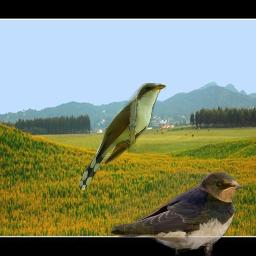Cuckoo: (79, 83, 166, 190)
Swallow: (109, 170, 244, 256)
